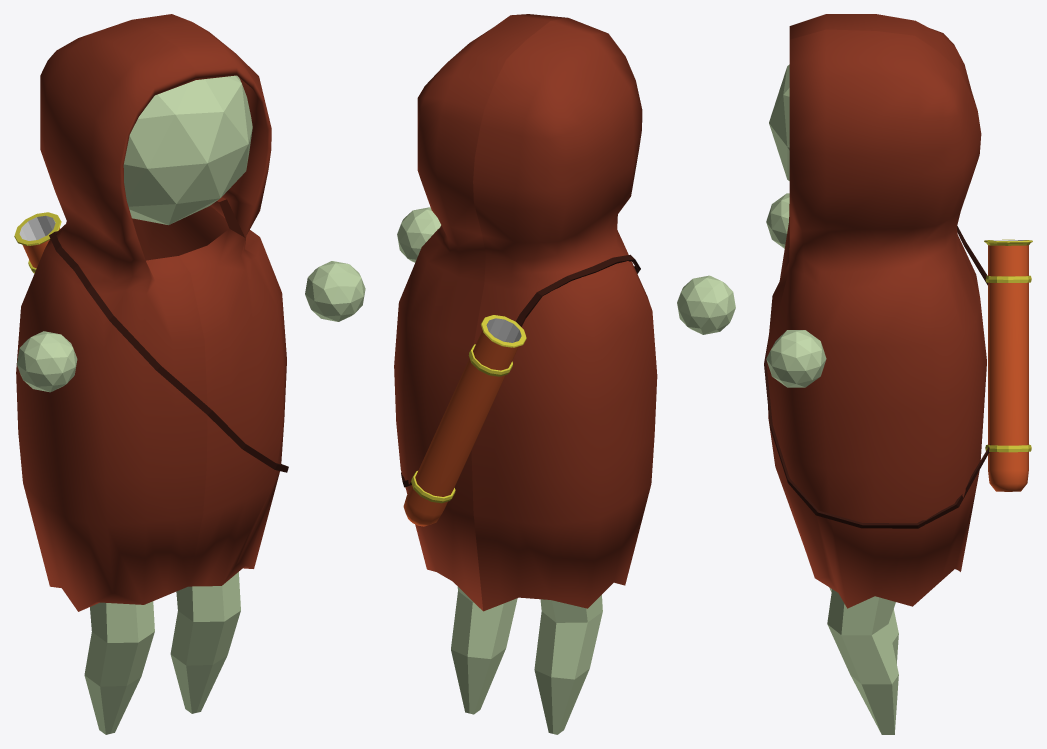
Rendered from Character.fbx.
3 renders of one model, left to right at view 1: azimuth 30°, elevation 25°; view 2: azimuth 150°, elevation 25°; view 3: azimuth 270°, elevation 25°, orthographic. The views are drawn at different scales.
Parts seen in each view (by area): view 1: Cube, Sphere, Cube.012, Cube.005, Cylinder, Cylinder.003, Cylinder.004; view 2: Cube, Cylinder, Cube.012, Cube.005, Cylinder.004, Cylinder.003; view 3: Cube, Cylinder, Cube.005, Cylinder.003, Sphere, Cylinder.004.
Boxes of the visible parts, box(x1,y1,x2,y2) form: Cube: box(16, 14, 286, 611); Sphere: box(123, 75, 252, 225); Cube.012: box(84, 601, 154, 734); Cube.005: box(170, 572, 240, 713); Cylinder: box(14, 212, 288, 472); Cylinder.003: box(305, 261, 365, 321); Cylinder.004: box(17, 331, 77, 392); Cube: box(394, 14, 657, 611); Cylinder: box(401, 254, 640, 526); Cube.012: box(534, 595, 602, 734); Cube.005: box(451, 586, 517, 714); Cylinder.004: box(677, 275, 735, 334); Cylinder.003: box(397, 207, 440, 262); Cube: box(766, 14, 986, 608); Cylinder: box(764, 226, 1032, 528); Cube.005: box(827, 589, 898, 734); Cylinder.003: box(766, 330, 826, 387); Sphere: box(769, 64, 789, 180); Cylinder.004: box(766, 193, 789, 248).
Size of the model in its own units: 329 by 647 by 232.
